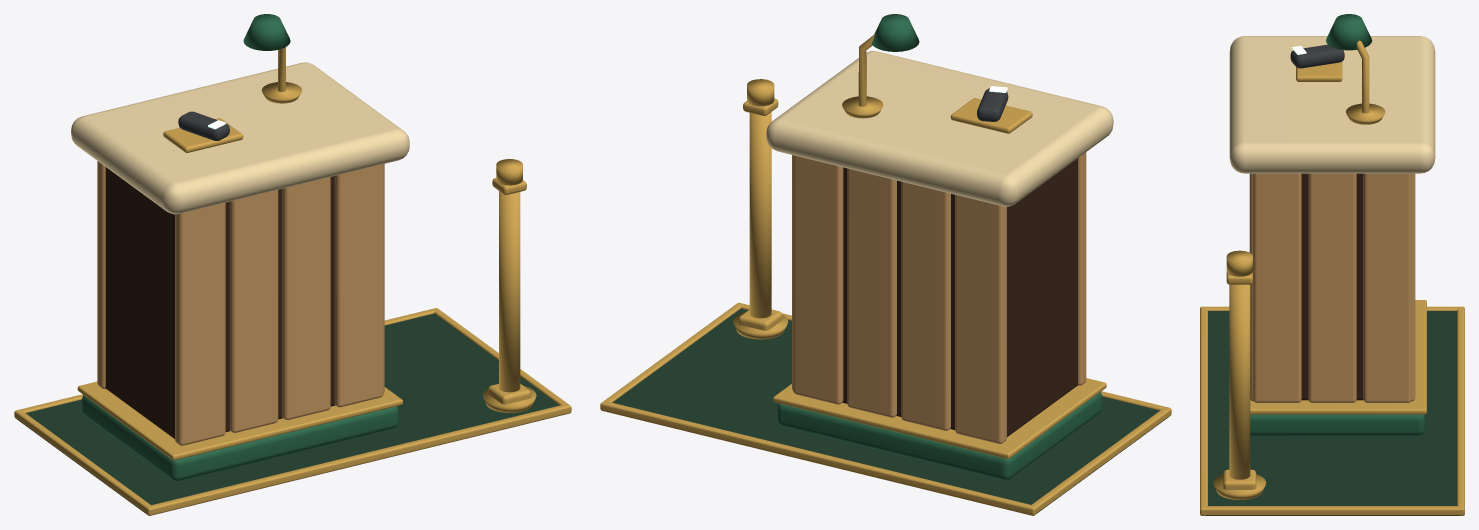
File: security_booth_tier1.glb
The picture shows the model from 3 angles, left to right: view 1: azimuth 30°, elevation 25°; view 2: azimuth 150°, elevation 25°; view 3: azimuth 270°, elevation 25°; orthographic projection. The views are drawn at different scales.
Visible parts, largest first — view 1: Top, Mat, Core, Slat0-1, Slat3-1, Slat1-1, Slat2-1, Plinth, PlinthBand, MatEdge0, Stanchion, Slat01 (+9 smaller); view 2: Top, Mat, Core, Slat01, Slat31, Slat21, Slat11, Plinth, PlinthBand, MatEdge1, Stanchion, Slat0-1 (+8 smaller); view 3: Top, Mat, SlatE0, SlatE1, SlatE2, Stanchion, Plinth, Core, PlinthBand, MatEdge3, MatEdge0, MatEdge1 (+10 smaller).
Part boxes in pixels (box(x1,y1,x2,y2)): Top: box(71, 62, 409, 214); Mat: box(17, 313, 559, 515); Core: box(105, 167, 335, 438); Slat0-1: box(175, 202, 225, 445); Slat3-1: box(334, 164, 383, 407); Slat1-1: box(229, 190, 278, 432); Slat2-1: box(282, 177, 330, 419); Plinth: box(82, 395, 398, 481); PlinthBand: box(77, 381, 402, 460); MatEdge0: box(146, 404, 571, 515); Stanchion: box(499, 191, 520, 392); Slat01: box(97, 161, 105, 388); Top: box(766, 51, 1113, 206); Mat: box(612, 308, 1168, 515); Core: box(842, 158, 1077, 436); Slat01: box(955, 194, 1006, 443); Slat31: box(793, 155, 843, 404); Slat21: box(847, 168, 896, 417); Slat11: box(901, 181, 950, 430); Plinth: box(777, 392, 1102, 480); PlinthBand: box(773, 378, 1106, 458); MatEdge1: box(600, 401, 1036, 515); Stanchion: box(749, 112, 771, 318); Slat0-1: box(1078, 152, 1086, 385); Top: box(1229, 36, 1435, 173); Mat: box(1206, 311, 1458, 515); SlatE0: box(1253, 173, 1301, 402); SlatE1: box(1308, 173, 1356, 402); SlatE2: box(1363, 173, 1411, 402); Stanchion: box(1229, 284, 1250, 479); Plinth: box(1250, 414, 1425, 435); Core: box(1301, 173, 1363, 400); PlinthBand: box(1250, 300, 1426, 414); MatEdge3: box(1202, 506, 1462, 515); MatEdge0: box(1200, 306, 1207, 515); MatEdge1: box(1457, 306, 1464, 515).
Bounding box in the file's own units: 1.45 × 1.29 × 0.8001.
